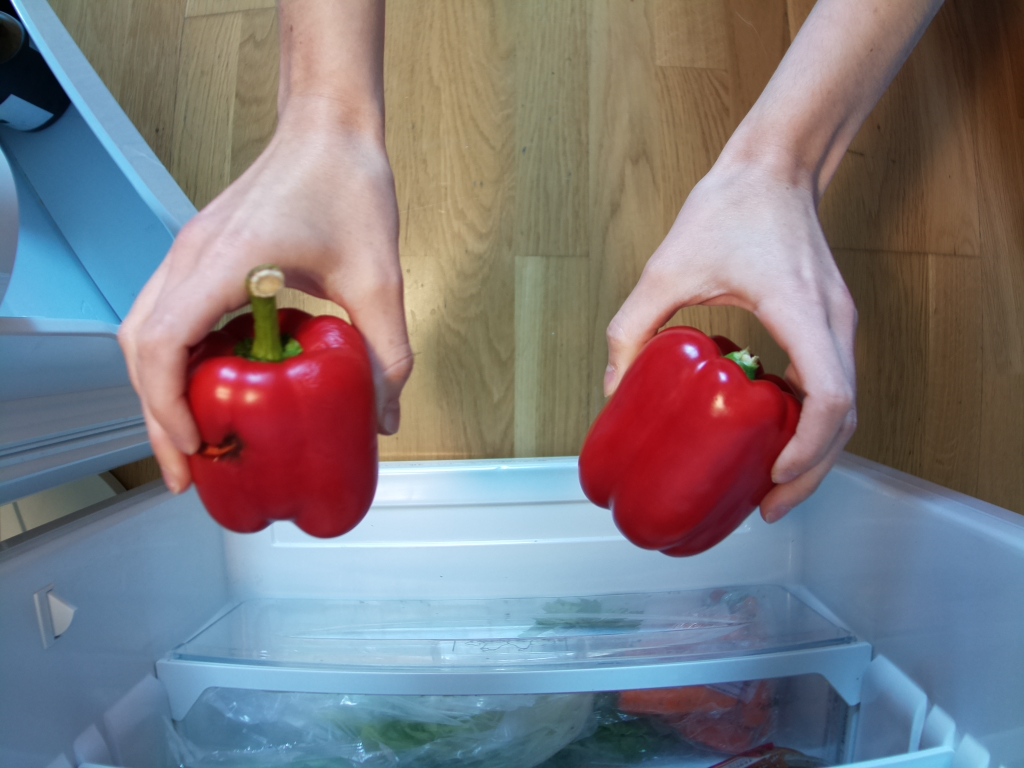pepper: (577, 324, 800, 557)
pepper-bad: (184, 265, 384, 540)
